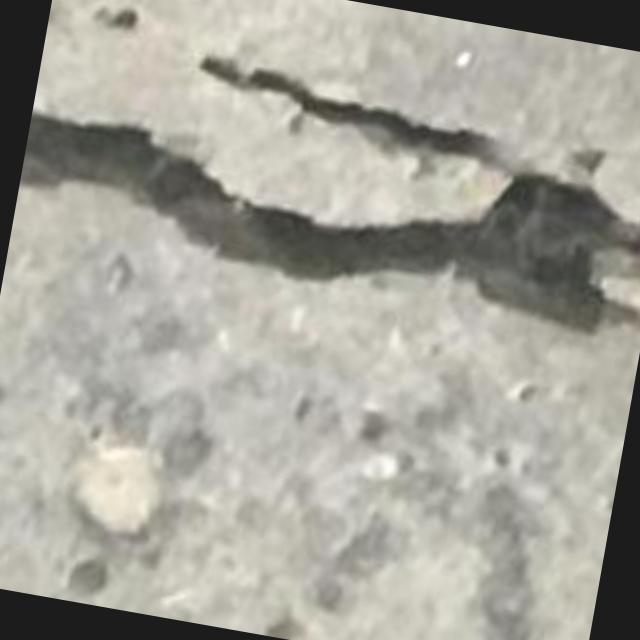crack: (20, 57, 639, 334)
peeling plaster: (74, 444, 158, 532)
